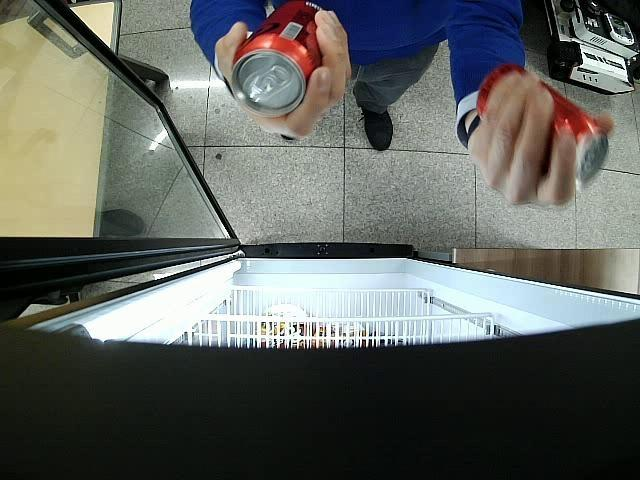11_cocaColaZero: (477, 62, 610, 194), (230, 0, 326, 118)
